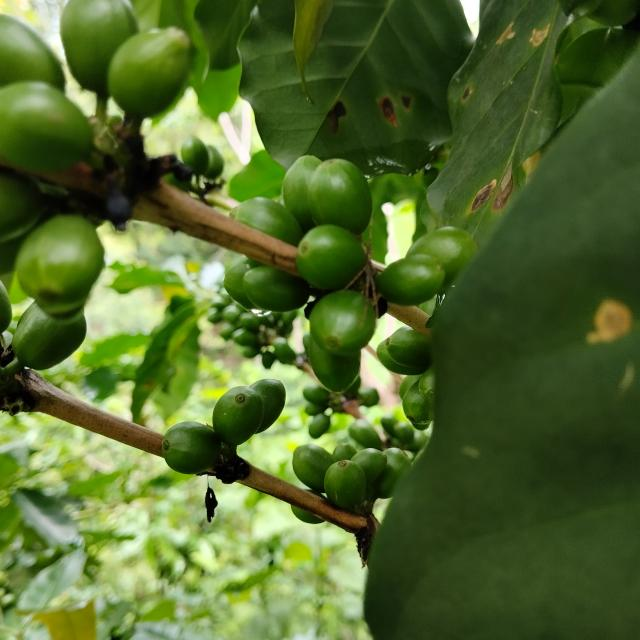green: (11, 302, 86, 370), (212, 379, 285, 446), (308, 158, 372, 234), (296, 224, 366, 290), (230, 196, 302, 246), (376, 254, 445, 306), (161, 422, 221, 475), (212, 387, 264, 446), (282, 155, 322, 231), (324, 460, 367, 509), (292, 445, 333, 493), (351, 449, 387, 485)
